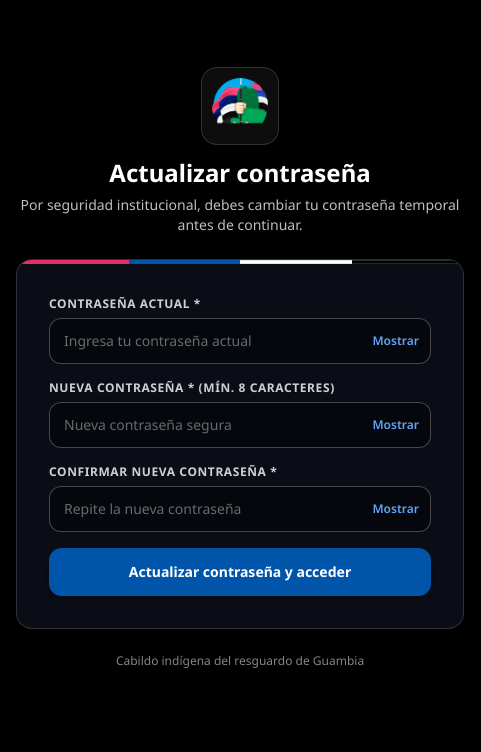
CambiarPasswordPage (R-005, R-007) › muestra mensaje de error amigable cuando adminChangePassword rechaza la petición
This screenshot has width=481, height=752.
Type "WrongOldPass!" into the password field labelled "Contraseña actual *".
click(240, 341); type("WrongOldPass!")  # box [49, 318, 431, 364]
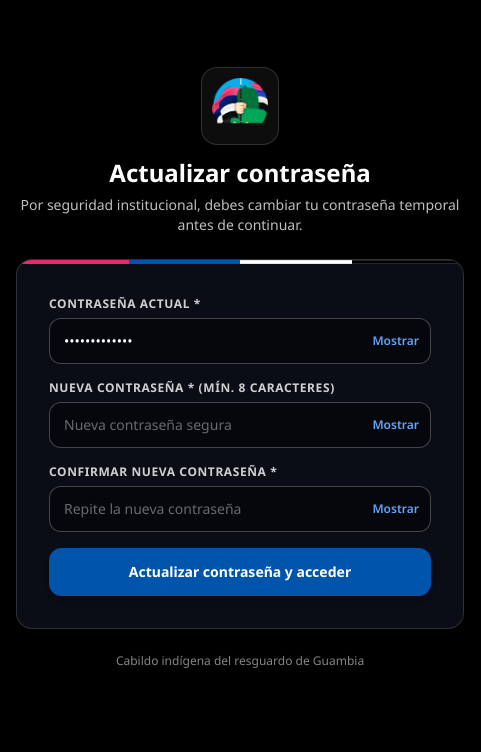
Type "NewSecurePass123#" into the password field labelled "Nueva contraseña * (Mín. 8 caracteres)".
click(240, 425); type("NewSecurePass123#")  # box [49, 402, 431, 448]
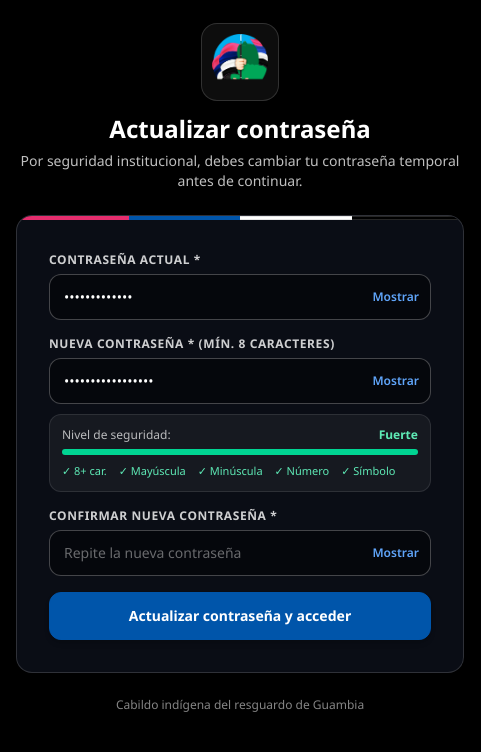
Type "NewSecurePass123#" into the password field labelled "Confirmar nueva contraseña *".
click(240, 553); type("NewSecurePass123#")  # box [49, 530, 431, 576]
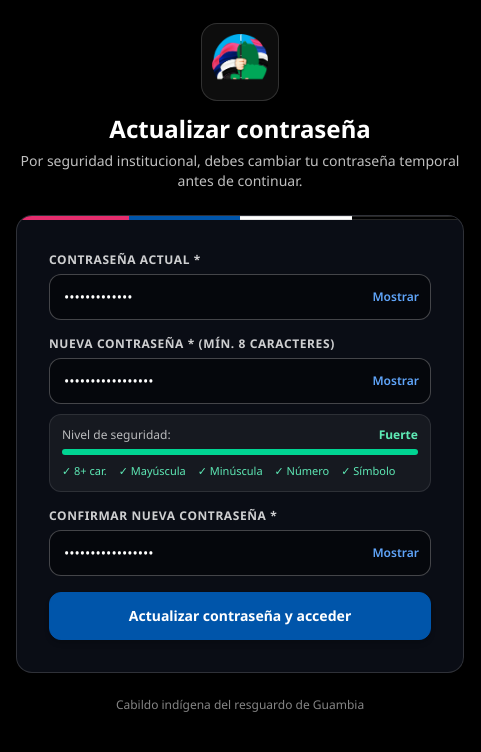
Submit the form, box [49, 252, 431, 640]
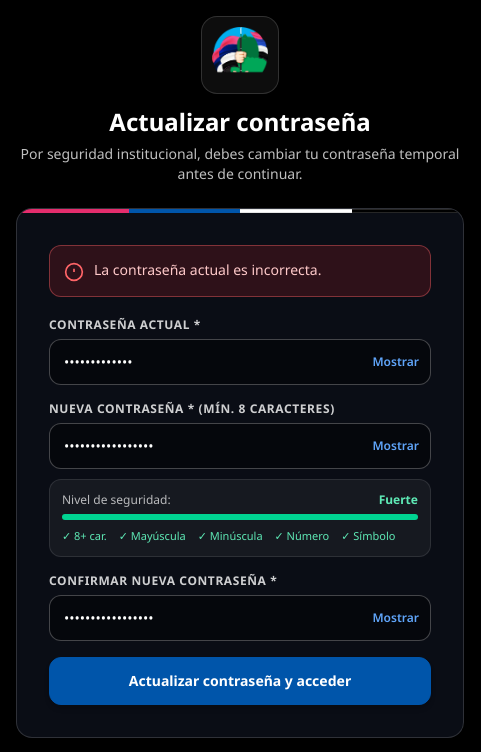
expect the text "La contraseña actual es incorrecta." is shown: met, box [94, 260, 322, 280]
